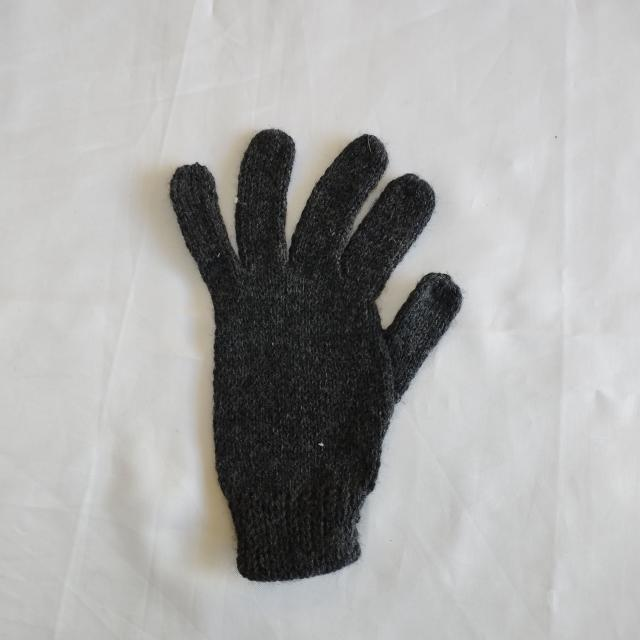Guante: (168, 127, 463, 582)
